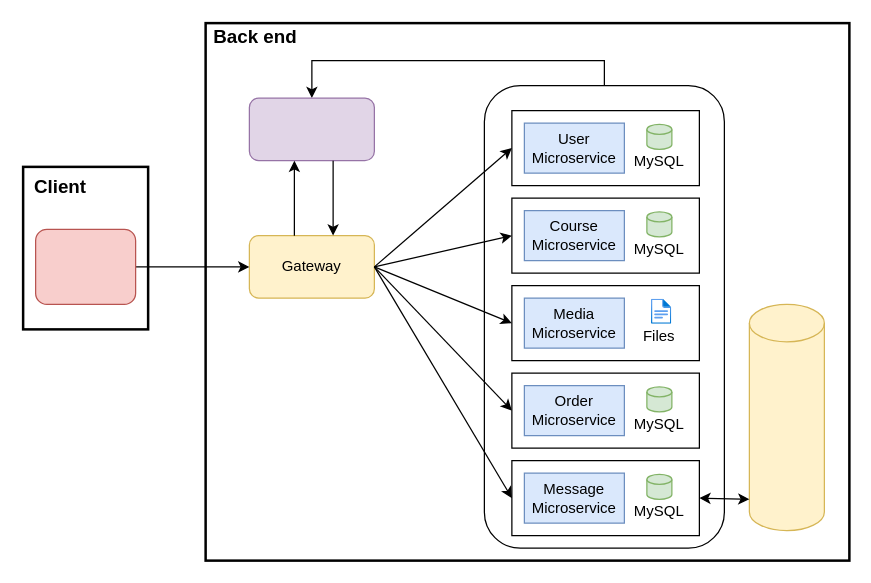
This 871x583 diagram has some shape labels left out. Each missing label, with the centre of its shape:
Elearning Platform WebApp: (x=85, y=266)
Event Bus RabbitMQ ó Kafka: (x=786, y=417)
Service Discovery: (x=311, y=129)
